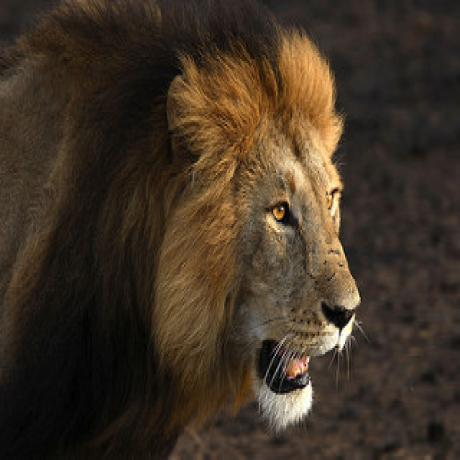Lion: (0, 0, 365, 460)
